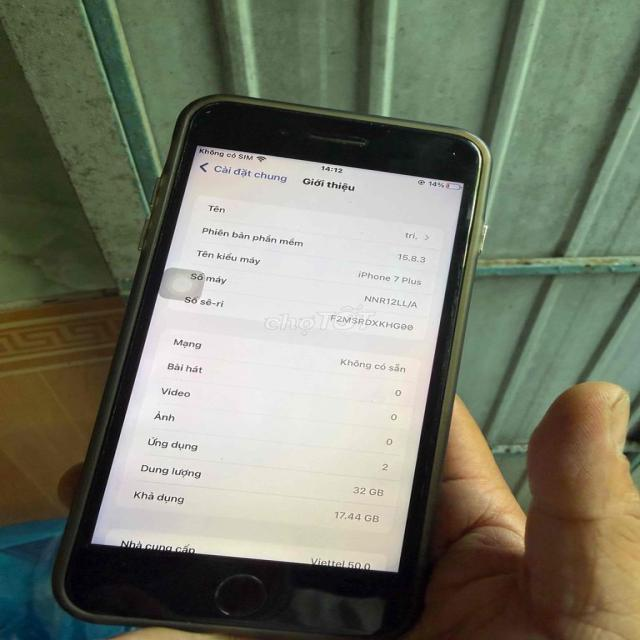gen_7_8: (57, 89, 493, 640)
scratch: (272, 117, 377, 151), (336, 106, 398, 138), (180, 95, 227, 127), (434, 141, 464, 160)
